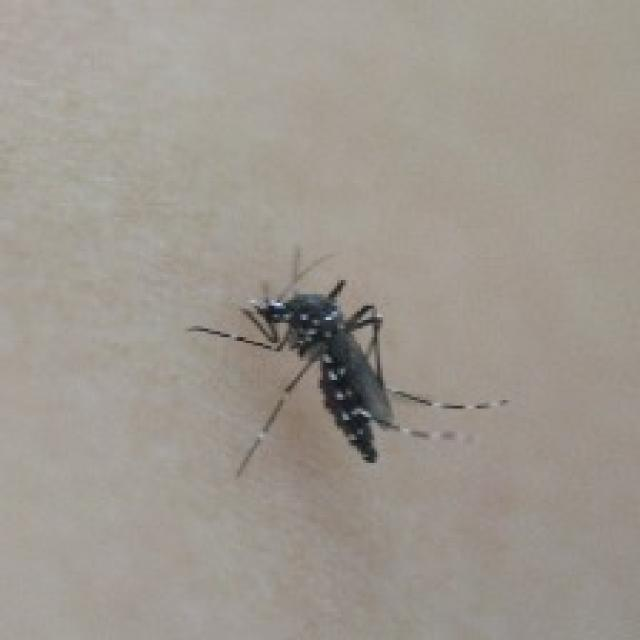aedes: (183, 243, 508, 477)
